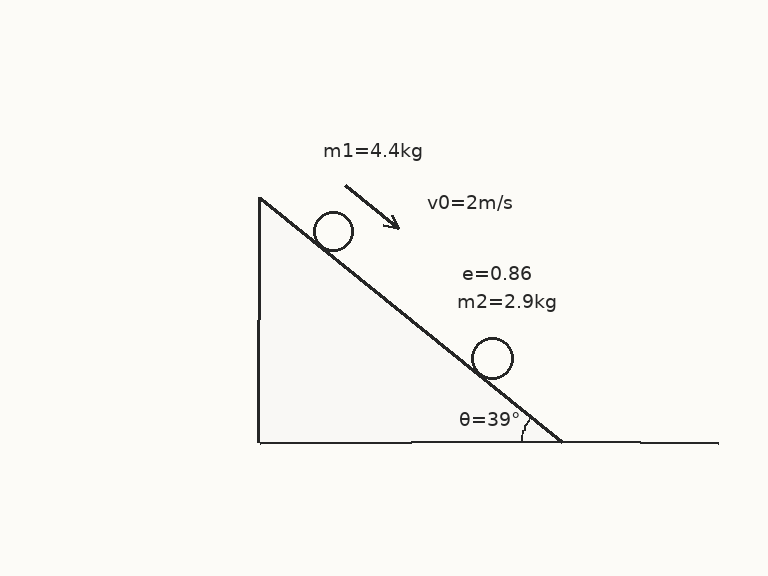ball: (469, 335, 515, 381), (311, 209, 355, 253)
ramp: (257, 195, 564, 444)
